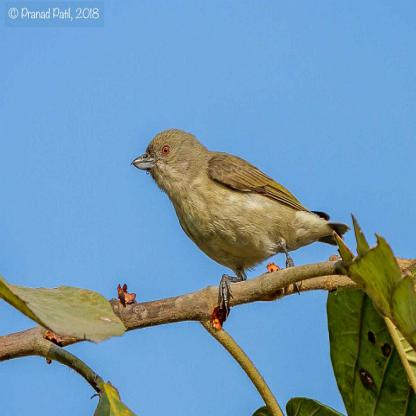Burung: (131, 128, 351, 294)
